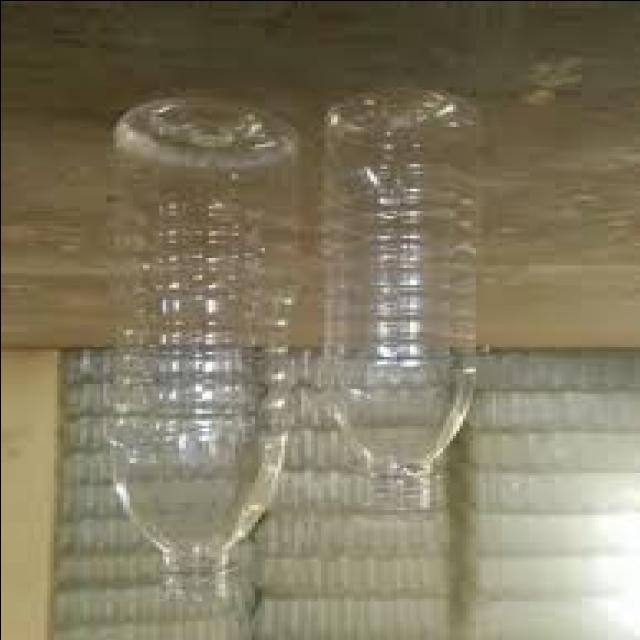plastic cup: (103, 93, 299, 594), (334, 84, 476, 503)
